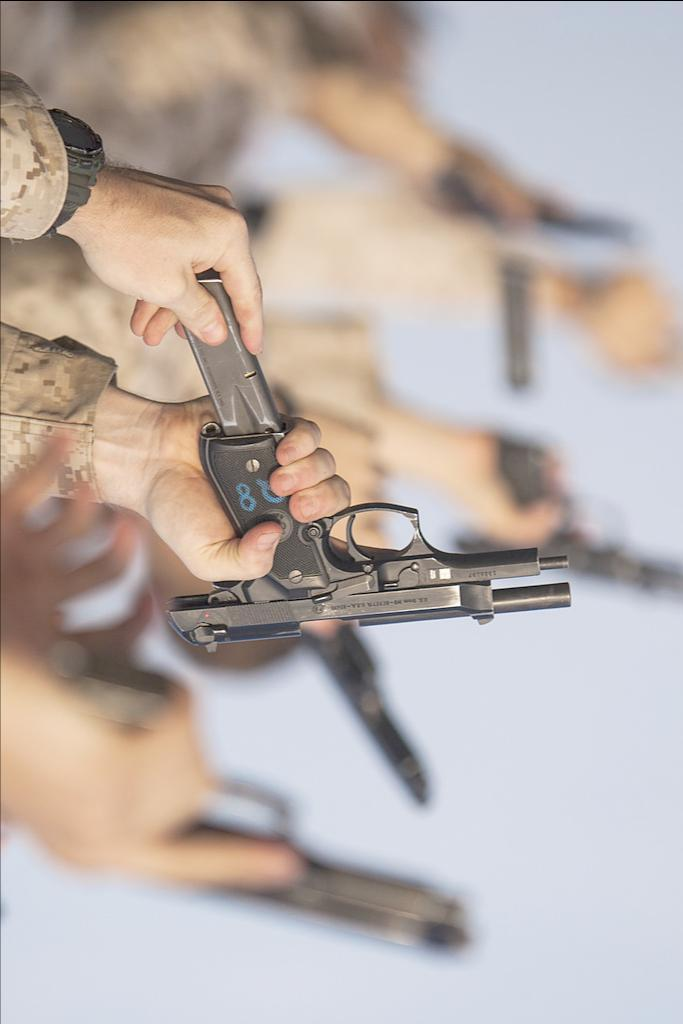gun: (168, 270, 574, 656), (61, 650, 472, 956)
